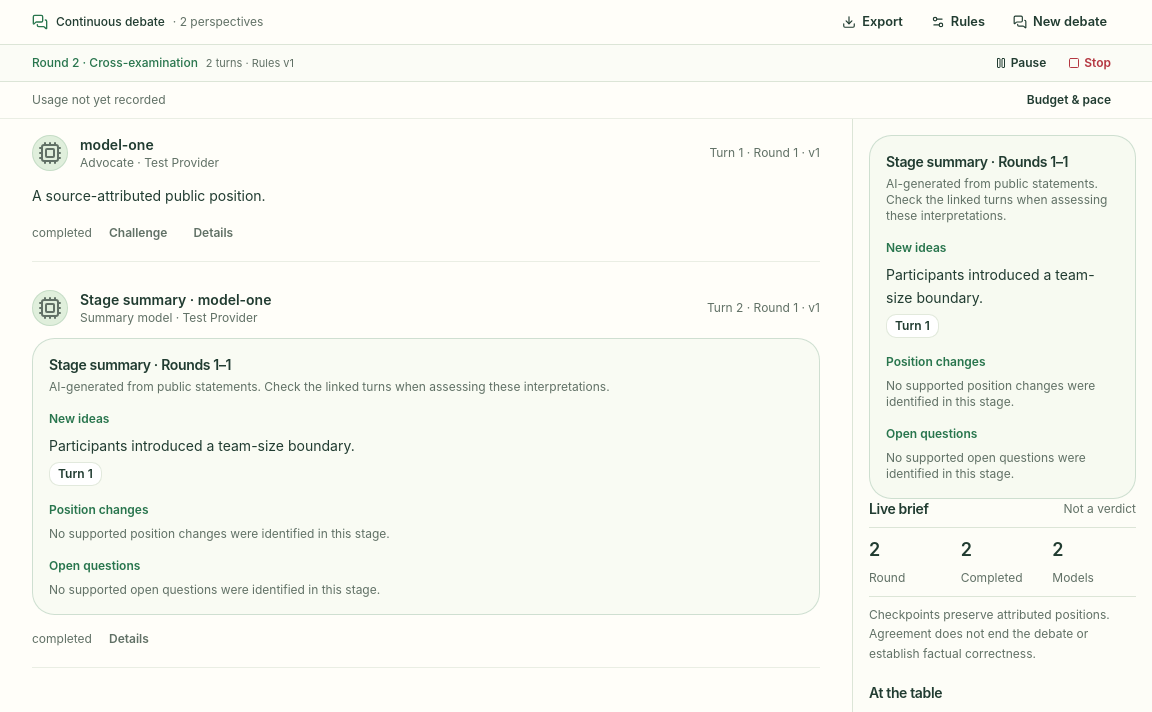
Test: stage summaries link interpretations to original participant turns
Expected: the text "Participants introduced a team-size boundary." below "Summary model" is shown, [49, 437, 355, 454]
Expected: the number of buttons "Challenge" is 1, [100, 221, 176, 245]
Click the 2nd button "Turn 1".
click(75, 474)  # box [49, 462, 102, 486]
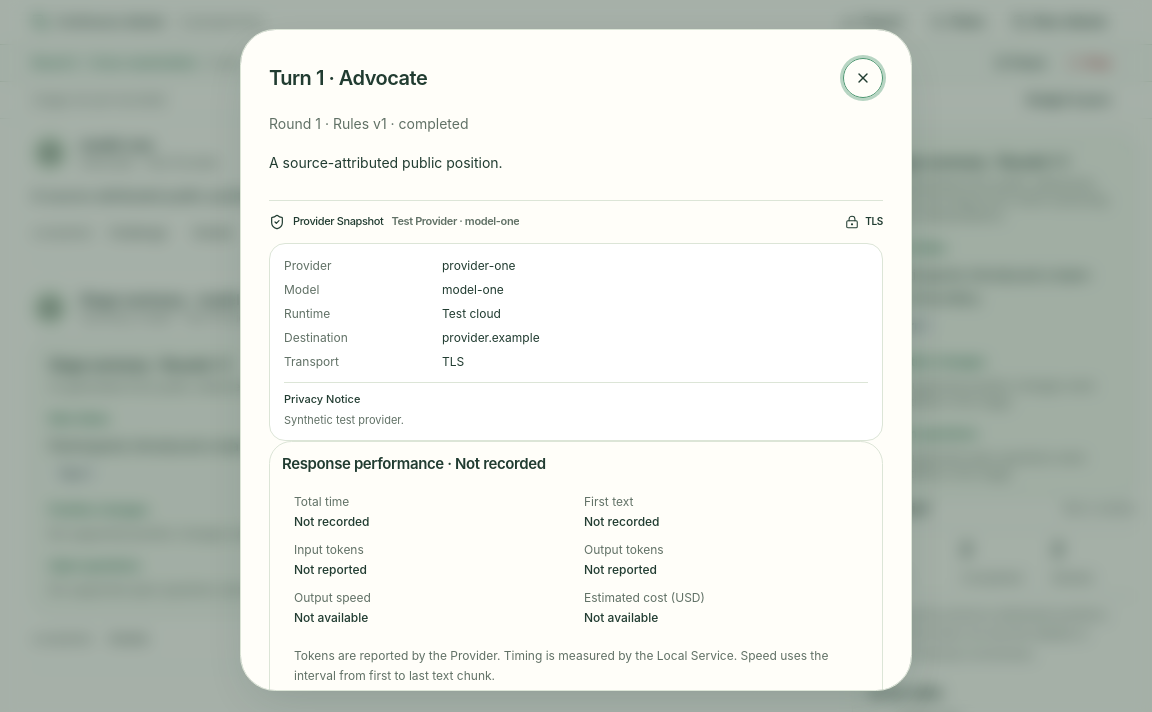
Result: the text "A source-attributed public position." is shown at [269, 154, 503, 171]
